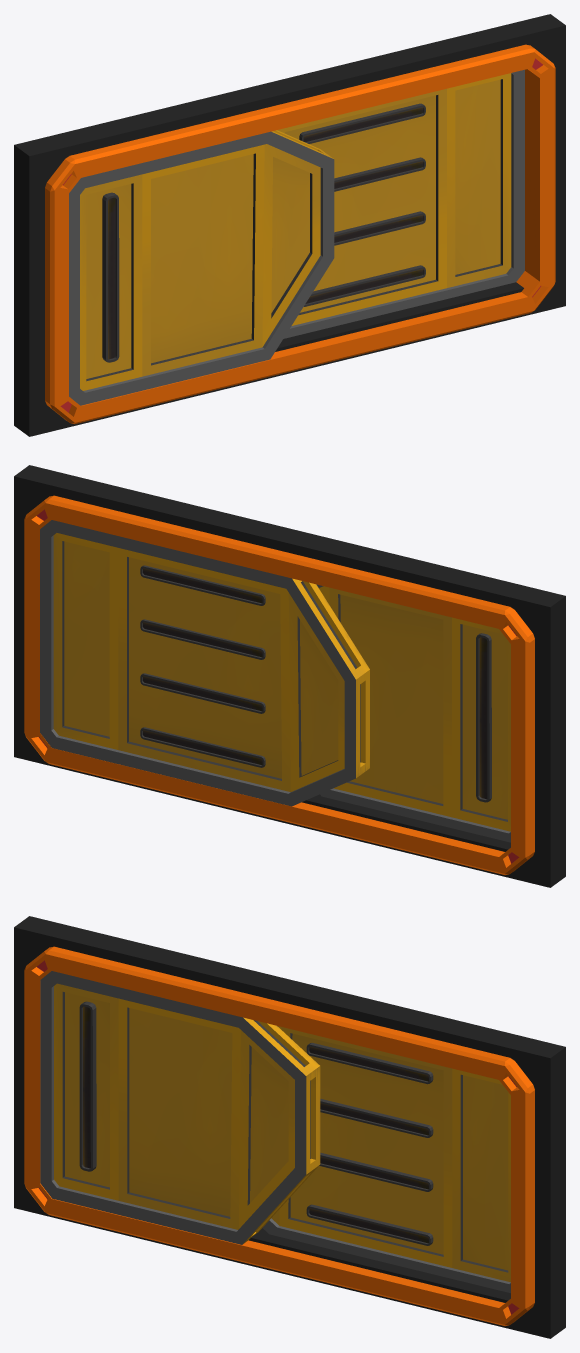
File: Doors 1.fbx
3 renders of one model, top to bottom at view 1: azimuth 30°, elevation 25°; view 2: azimuth 150°, elevation 25°; view 3: azimuth 330°, elevation 25°, orthographic.
Visible parts, largest first — view 1: Cube.134, Cube.133, Cube.132, Cube.131; view 2: Cube.133, Cube.134, Cube.132, Cube.131; view 3: Cube.134, Cube.133, Cube.132, Cube.131.
Boxes of the visible parts, x1,y1,x2,y2 form: Cube.134: (69, 130, 334, 405); Cube.133: (277, 69, 524, 338); Cube.132: (45, 44, 555, 424); Cube.131: (14, 14, 565, 436); Cube.133: (40, 520, 369, 806); Cube.134: (316, 584, 510, 842); Cube.132: (24, 495, 534, 875); Cube.131: (14, 465, 565, 887); Cube.134: (40, 971, 320, 1244); Cube.133: (262, 1026, 510, 1293); Cube.132: (24, 946, 534, 1326); Cube.131: (14, 916, 565, 1338).
Size of the model in its own units: 4 by 2 by 0.377.
